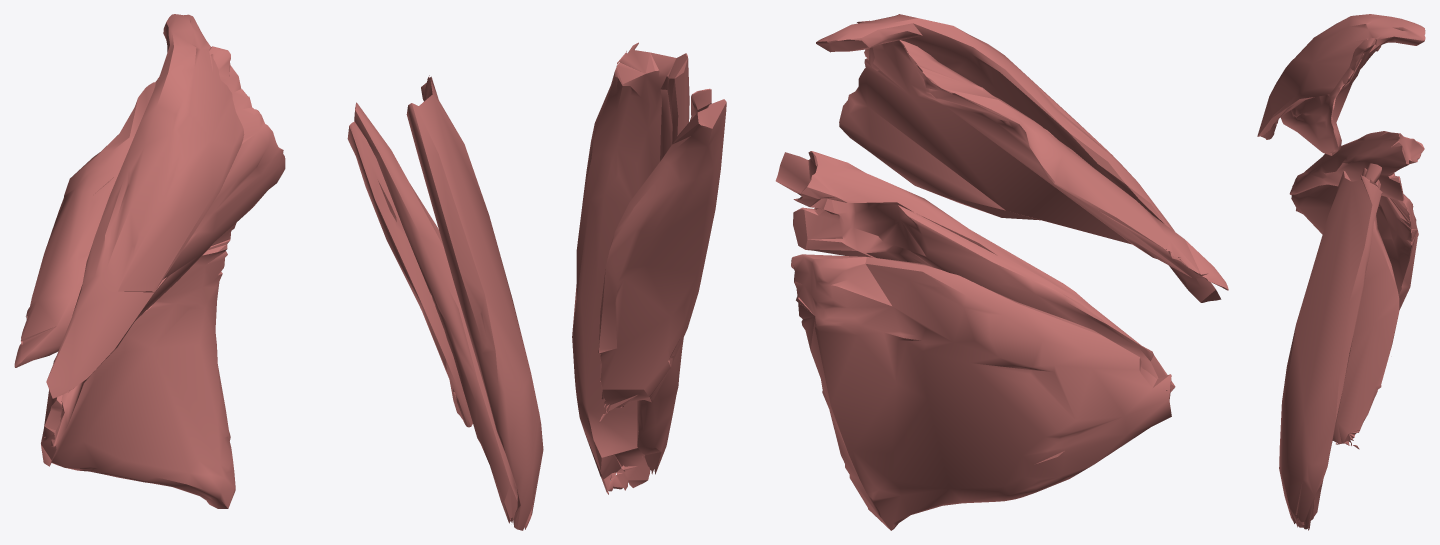
File: muscular-hand-right.glb
3 views of the same model, side by side, from view 1: azimuth 30°, elevation 25°; view 2: azimuth 150°, elevation 25°; view 3: azimuth 270°, elevation 25° (orthographic). The views are drawn at different scales.
Visible parts, largest first — view 1: bp3d_FMA37386_FJ1483, bp3d_FMA46123_FJ1515, bp3d_FMA37396_FJ1466, bp3d_FMA37390_FJ1501, bp3d_FMA37398_FJ1470, bp3d_FMA37400_FJ1482, bp3d_FMA46121_FJ1481; view 2: bp3d_FMA46123_FJ1515, bp3d_FMA37390_FJ1501, bp3d_FMA37400_FJ1482, bp3d_FMA37396_FJ1466, bp3d_FMA46121_FJ1481, bp3d_FMA37386_FJ1483, bp3d_FMA37398_FJ1470; view 3: bp3d_FMA37396_FJ1466, bp3d_FMA37400_FJ1482, bp3d_FMA37386_FJ1483, bp3d_FMA46121_FJ1481, bp3d_FMA46123_FJ1515, bp3d_FMA37390_FJ1501, bp3d_FMA37398_FJ1470.
Part boxes in pixels (x1,y1,x2,y2): bp3d_FMA37386_FJ1483: (46, 14, 244, 398); bp3d_FMA46123_FJ1515: (41, 223, 236, 508); bp3d_FMA37396_FJ1466: (406, 75, 543, 530); bp3d_FMA37390_FJ1501: (14, 46, 285, 367); bp3d_FMA37398_FJ1470: (354, 102, 517, 523); bp3d_FMA37400_FJ1482: (347, 121, 472, 427); bp3d_FMA46121_FJ1481: (44, 242, 214, 447); bp3d_FMA46123_FJ1515: (791, 254, 1171, 530); bp3d_FMA37390_FJ1501: (839, 20, 1228, 290); bp3d_FMA37400_FJ1482: (598, 99, 726, 422); bp3d_FMA37396_FJ1466: (572, 42, 689, 494); bp3d_FMA46121_FJ1481: (775, 151, 1175, 392); bp3d_FMA37386_FJ1483: (816, 14, 1221, 302); bp3d_FMA37398_FJ1470: (637, 88, 711, 474); bp3d_FMA37396_FJ1466: (1279, 171, 1382, 530); bp3d_FMA37400_FJ1482: (1332, 168, 1399, 449); bp3d_FMA37386_FJ1483: (1257, 14, 1425, 139); bp3d_FMA46121_FJ1481: (1289, 131, 1424, 201); bp3d_FMA46123_FJ1515: (1291, 184, 1418, 310); bp3d_FMA37390_FJ1501: (1280, 37, 1380, 155); bp3d_FMA37398_FJ1470: (1365, 163, 1381, 183).
Size of the model in its own units: 0.085 by 0.0785 by 0.0297.
